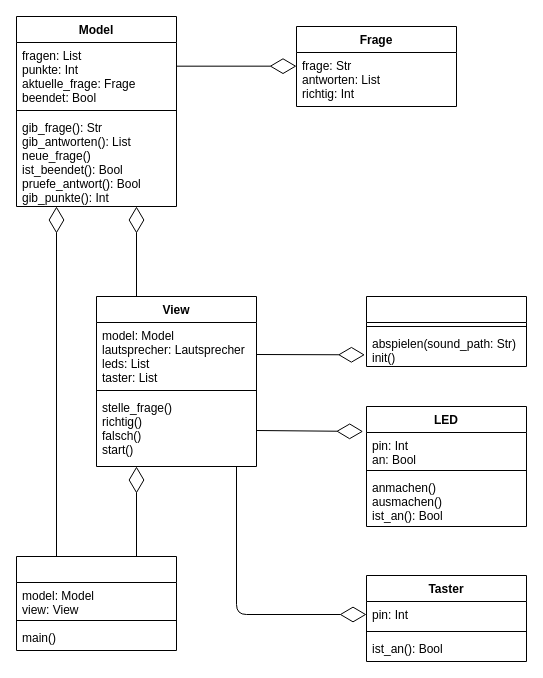
Some shapes in this 543 by 678 pixel diagram are drawn without their labels. The box of each missing label's shape, as (x1, y1, x2, y2) in pixels:
Controller: (16, 556, 176, 650)
Lautsprecher: (366, 296, 526, 366)
